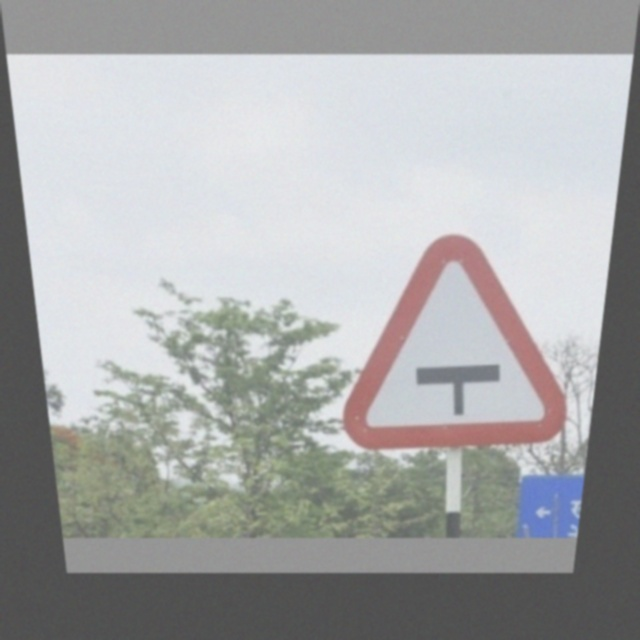T_Intersection: (331, 225, 593, 455)
